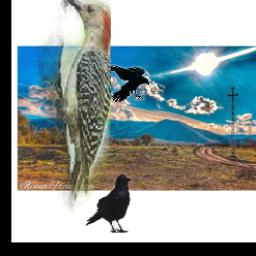Crow: (85, 173, 134, 233), (97, 65, 149, 103)
Woodpecker: (38, 0, 111, 216)
